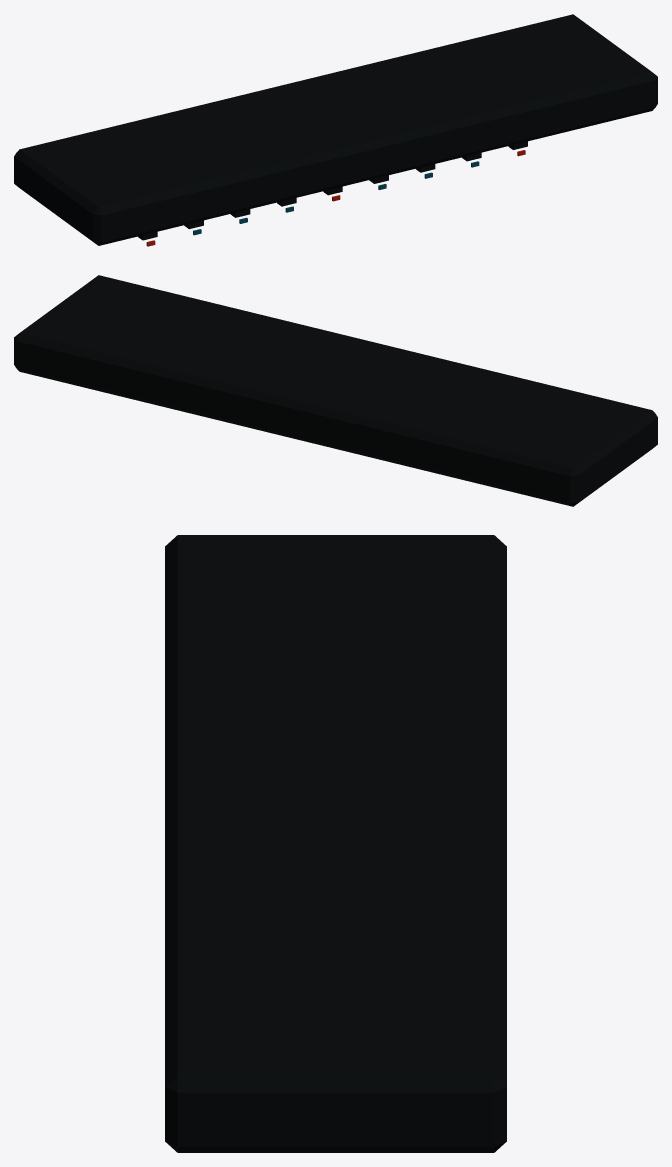
The model's file is Cockpit_Rotorcraft__Overhead.obj.
3 renders of one model, top to bottom at view 1: azimuth 30°, elevation 25°; view 2: azimuth 150°, elevation 25°; view 3: azimuth 270°, elevation 25°, orthographic. The views are drawn at different scales.
Visible parts, largest first — view 1: Overhead_breaker_panel; view 2: Overhead_breaker_panel; view 3: Overhead_breaker_panel.
Part boxes in pixels (<box>): Overhead_breaker_panel: <box>14,14,657,245</box>; Overhead_breaker_panel: <box>14,275,657,506</box>; Overhead_breaker_panel: <box>165,535,506,1152</box>.
Size of the model in its own units: 1.22 by 0.119 by 0.32.
